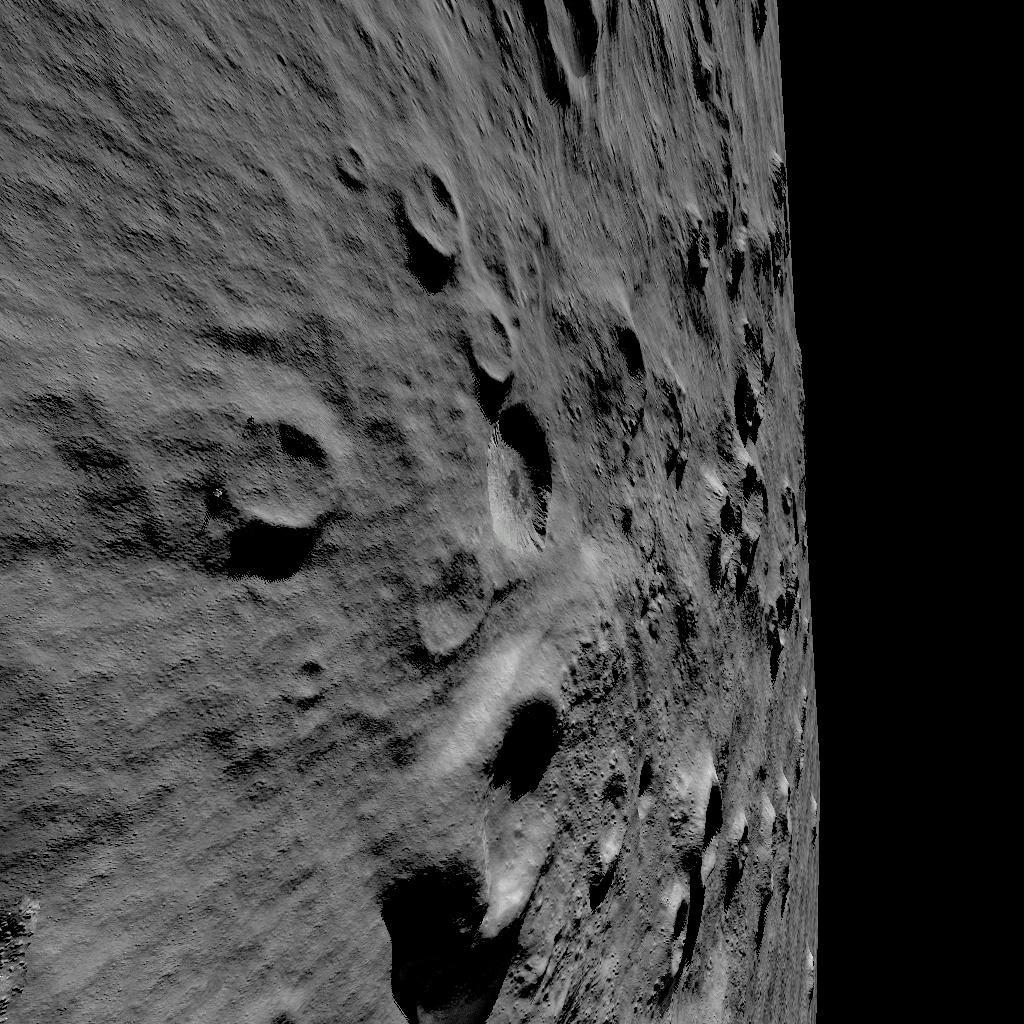Crater: (384, 648, 580, 1008), (398, 162, 556, 546), (594, 748, 810, 1016), (476, 0, 778, 135), (706, 350, 800, 653), (584, 312, 678, 508), (681, 168, 793, 298), (220, 418, 336, 536)
Plan surface: (0, 0, 386, 403), (54, 565, 370, 1024), (0, 422, 208, 542)
